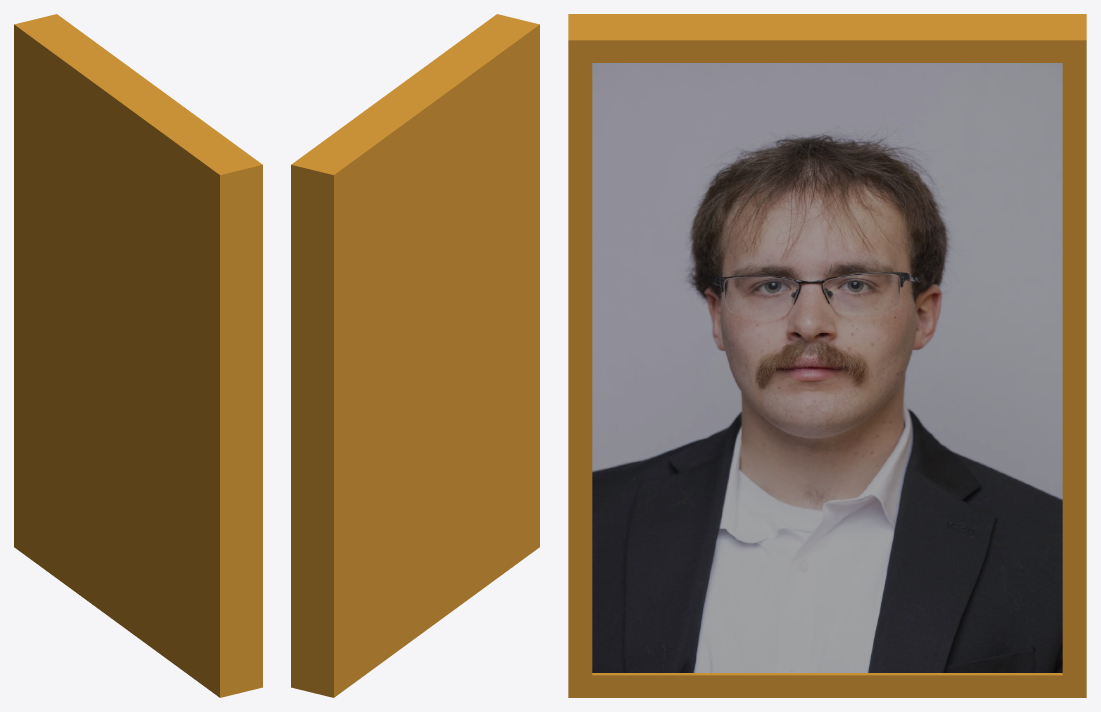
Rendered from andy-picture.glb.
The picture shows the model from 3 angles, left to right: view 1: azimuth 30°, elevation 25°; view 2: azimuth 150°, elevation 25°; view 3: azimuth 270°, elevation 25°; orthographic projection. The views are drawn at different scales.
Visible parts, largest first — view 1: Main; view 2: Main; view 3: picture, Main.
Part boxes in pixels (x1,y1,x2,y2): Main: (14, 14, 262, 697); Main: (291, 14, 539, 697); picture: (592, 63, 1062, 672); Main: (568, 14, 1086, 697).
Size of the model in its own units: 0.3 by 3.5 by 2.5.
2 materials, 2 textured.
